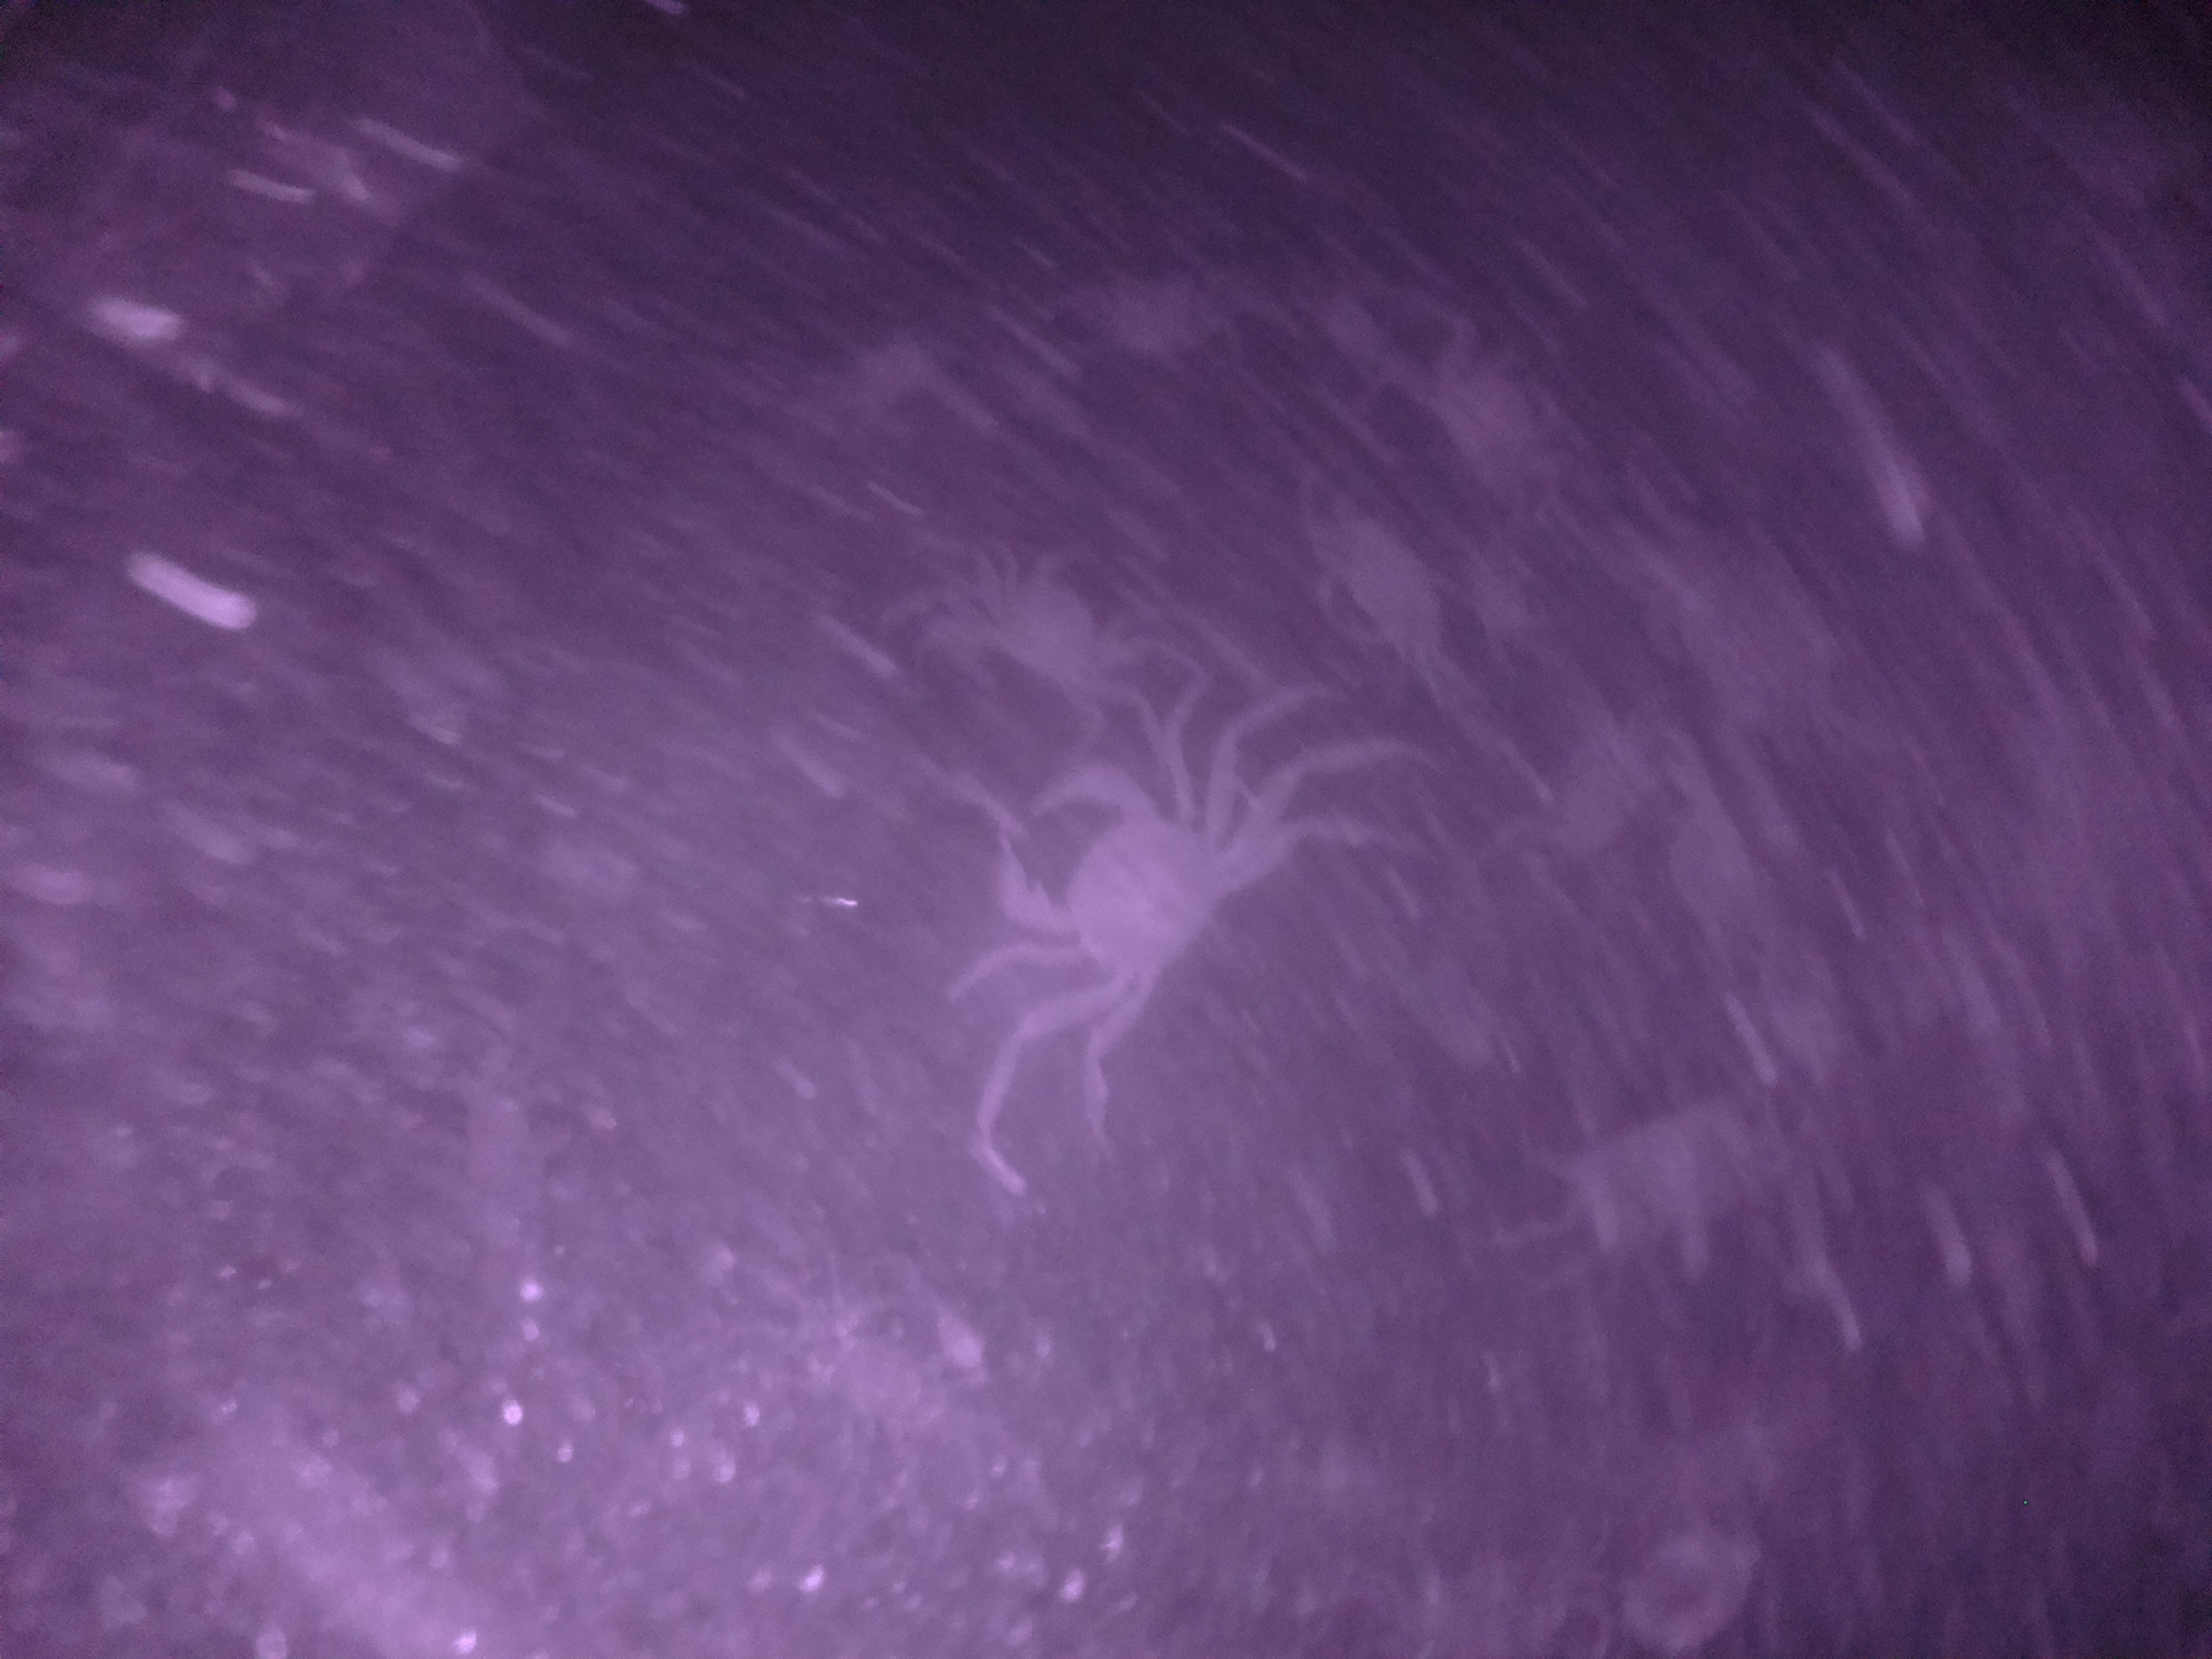Crab: (977, 749, 1268, 1056), (939, 538, 1170, 734), (1303, 484, 1461, 664)
